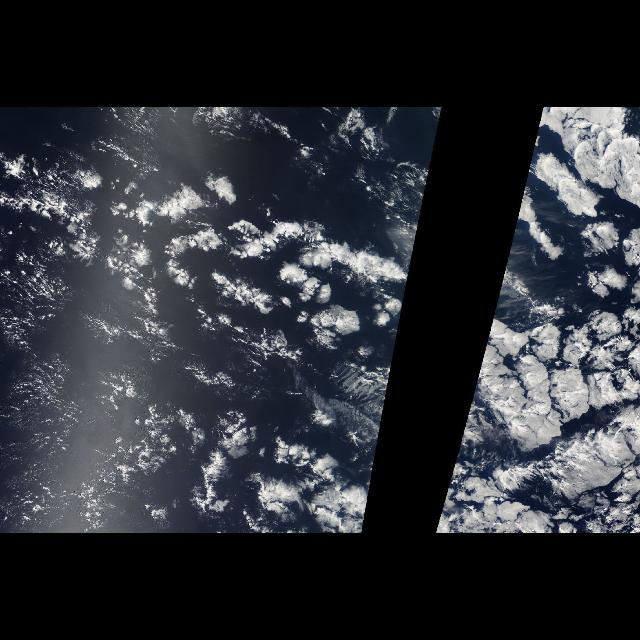Flower: (78, 155, 422, 530), (434, 208, 640, 530)
Sugar: (5, 349, 80, 461)
